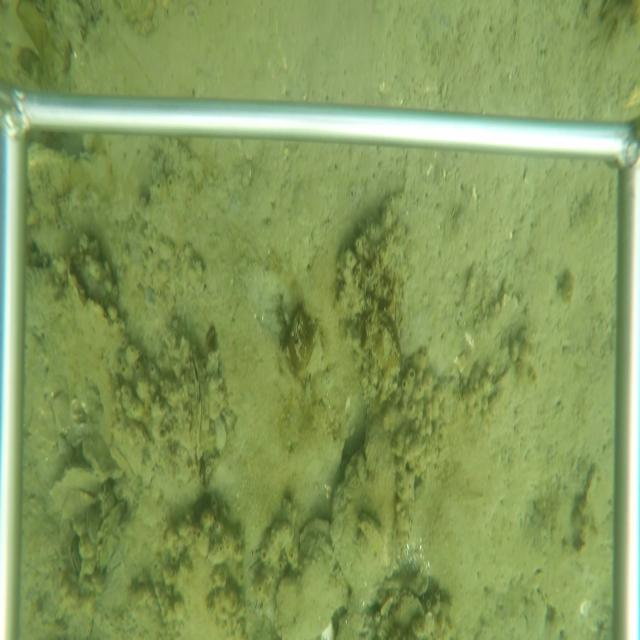Oyster-Closed: (274, 517, 350, 639), (67, 265, 127, 349), (47, 460, 123, 511), (186, 352, 209, 480), (85, 502, 100, 546), (66, 535, 79, 576)
Oyster-Indeterminate: (330, 417, 396, 592)
